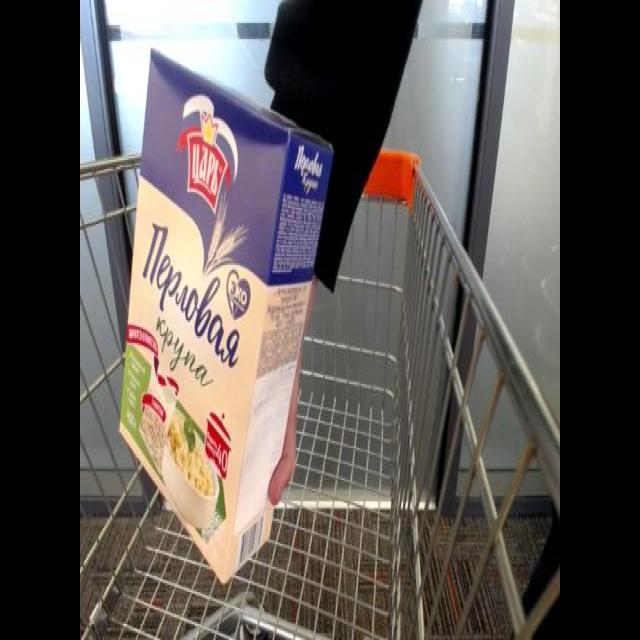Groats: (115, 38, 337, 590)
